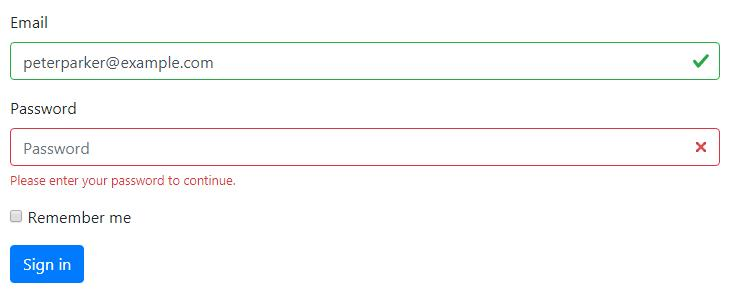textbox: (7, 34, 725, 90), (4, 124, 724, 170)
